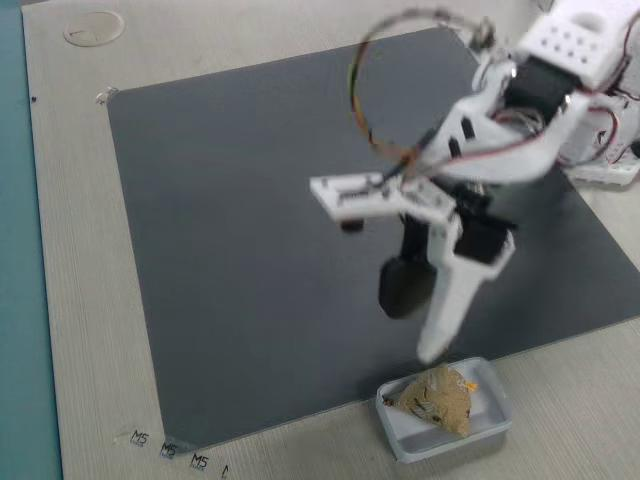gripper: (376, 194, 507, 360)
